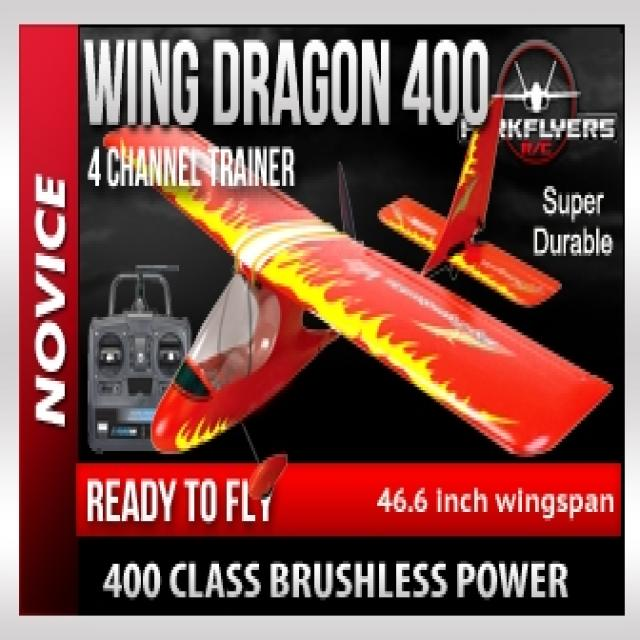iha: (103, 92, 611, 490)
